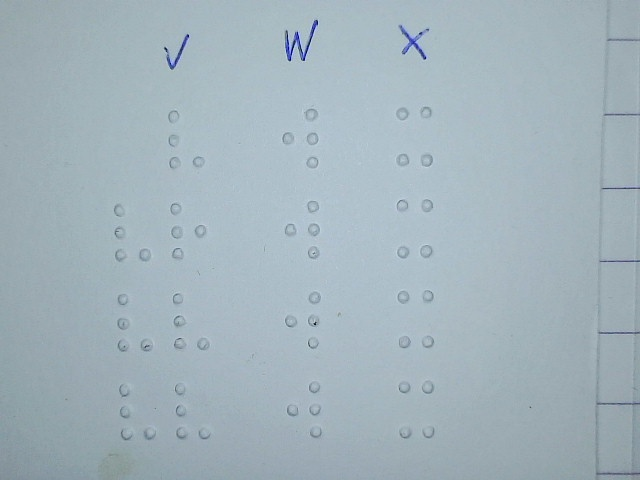V: (167, 108, 207, 171), (113, 201, 153, 264), (171, 289, 211, 352), (173, 379, 213, 442), (118, 380, 158, 443)
W: (281, 105, 321, 168), (283, 197, 323, 260), (283, 288, 323, 351), (284, 377, 324, 440)
X: (394, 103, 434, 166), (395, 195, 435, 258), (396, 286, 436, 349), (397, 377, 437, 440)
